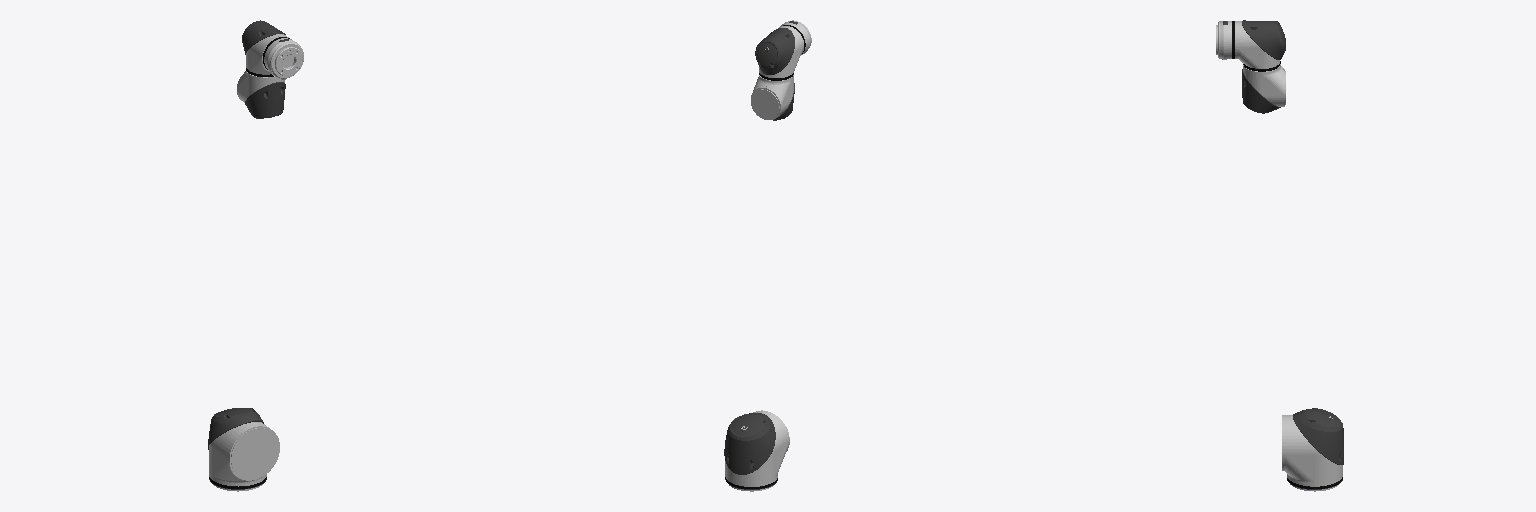
The robot description file, URDF, robot "rb5_850e":
<?xml version="1.0" ?>
<!-- =================================================================================== -->
<!-- |    This document was autogenerated by xacro from rb5_850e.urdf.xacro            | -->
<!-- |    EDITING THIS FILE BY HAND IS NOT RECOMMENDED                                 | -->
<!-- =================================================================================== -->
<robot name="rb5_850e">
  <link name="link0">
    <visual>
      <geometry>
        <mesh filename="package://rbpodo_description/meshes/rb5_850e/visual/link0.dae"/>
      </geometry>
    </visual>
    <collision>
      <geometry>
        <mesh filename="package://rbpodo_description/meshes/rb5_850e/collision/link0.stl"/>
      </geometry>
    </collision>
  </link>
  <link name="link1">
    <visual>
      <geometry>
        <mesh filename="package://rbpodo_description/meshes/rb5_850e/visual/link1.dae"/>
      </geometry>
    </visual>
    <collision>
      <geometry>
        <mesh filename="package://rbpodo_description/meshes/rb5_850e/collision/link1.stl"/>
      </geometry>
    </collision>
    <inertial>
      <origin rpy="0 0 0" xyz="0.000057 -0.005795 -0.034516"/>
      <mass value="4.147"/>
      <inertia ixx="0.008787118" ixy="-8.564e-06" ixz="-8.047e-06" iyy="0.008888636" iyz="0.000893025" izz="0.007845924"/>
    </inertial>
  </link>
  <link name="link2">
    <visual>
      <geometry>
        <mesh filename="package://rbpodo_description/meshes/rb5_850e/visual/link2.dae"/>
      </geometry>
    </visual>
    <collision>
      <geometry>
        <mesh filename="package://rbpodo_description/meshes/rb5_850e/collision/link2.stl"/>
      </geometry>
    </collision>
    <inertial>
      <origin rpy="0 0 0" xyz="-0.000037 -0.121603 0.212933"/>
      <mass value="9.633"/>
      <inertia ixx="0.392214367" ixy="-1.4684e-05" ixz="-5.721e-05" iyy="0.388914548" iyz="0.000255706" izz="0.021949397"/>
    </inertial>
  </link>
  <link name="link3">
    <visual>
      <geometry>
        <mesh filename="package://rbpodo_description/meshes/rb5_850e/visual/link3.dae"/>
      </geometry>
    </visual>
    <collision>
      <geometry>
        <mesh filename="package://rbpodo_description/meshes/rb5_850e/collision/link3.stl"/>
      </geometry>
    </collision>
    <inertial>
      <origin rpy="0 0 0" xyz="0.000021 -0.015845 0.202568"/>
      <mass value="3.915"/>
      <inertia ixx="0.112039835" ixy="-1.006e-06" ixz="1.4848e-05" iyy="0.111790094" iyz="0.002092668" izz="0.007569107"/>
    </inertial>
  </link>
  <link name="link4">
    <visual>
      <geometry>
        <mesh filename="package://rbpodo_description/meshes/rb5_850e/visual/link4.dae"/>
      </geometry>
    </visual>
    <collision>
      <geometry>
        <mesh filename="package://rbpodo_description/meshes/rb5_850e/collision/link4.stl"/>
      </geometry>
    </collision>
    <inertial>
      <origin rpy="0 0 0" xyz="0.000057 -0.106332 0.025881"/>
      <mass value="1.452"/>
      <inertia ixx="0.001629031" ixy="3.99e-07" ixz="2.37e-07" iyy="0.001558024" iyz="0.000127282" izz="0.001224887"/>
    </inertial>
  </link>
  <link name="link5">
    <visual>
      <geometry>
        <mesh filename="package://rbpodo_description/meshes/rb5_850e/visual/link5.dae"/>
      </geometry>
    </visual>
    <collision>
      <geometry>
        <mesh filename="package://rbpodo_description/meshes/rb5_850e/collision/link5.stl"/>
      </geometry>
    </collision>
    <inertial>
      <origin rpy="0 0 0" xyz="-0.000028 -0.025911 -0.004363"/>
      <mass value="1.454"/>
      <inertia ixx="0.001631445" ixy="1.764e-06" ixz="2.2e-07" iyy="0.001226962" iyz="0.000127473" izz="0.001560416"/>
    </inertial>
  </link>
  <link name="link6">
    <visual>
      <geometry>
        <mesh filename="package://rbpodo_description/meshes/rb5_850e/visual/link6.dae"/>
      </geometry>
    </visual>
    <collision>
      <geometry>
        <mesh filename="package://rbpodo_description/meshes/rb5_850e/collision/link6.stl"/>
      </geometry>
    </collision>
    <inertial>
      <origin rpy="0 0 0" xyz="-0.000002 -0.079964 -0.000494"/>
      <mass value="0.243"/>
      <inertia ixx="0.000147823" ixy="2.46e-07" ixz="6.43e-07" iyy="0.000243703" iyz="-5.54e-07" izz="0.000142339"/>
    </inertial>
  </link>
  <link name="tcp"/>
  <joint name="base" type="revolute">
    <origin rpy="0 0 0" xyz="0 0 0.1692"/>
    <parent link="link0"/>
    <child link="link1"/>
    <axis xyz="0 0 1"/>
    <limit effort="10" lower="-3.14" upper="3.14" velocity="3.14"/>
  </joint>
  <joint name="shoulder" type="revolute">
    <origin rpy="0 0 0" xyz="0 0 0"/>
    <parent link="link1"/>
    <child link="link2"/>
    <axis xyz="0 1 0"/>
    <limit effort="10" lower="-3.14" upper="3.14" velocity="3.14"/>
  </joint>
  <joint name="elbow" type="revolute">
    <origin rpy="0 0 0" xyz="0 0 0.425"/>
    <parent link="link2"/>
    <child link="link3"/>
    <axis xyz="0 1 0"/>
    <limit effort="10" lower="-3.14" upper="3.14" velocity="3.14"/>
  </joint>
  <joint name="wrist1" type="revolute">
    <origin rpy="0 0 0" xyz="0 0 0.392"/>
    <parent link="link3"/>
    <child link="link4"/>
    <axis xyz="0 1 0"/>
    <limit effort="10" lower="-3.14" upper="3.14" velocity="3.14"/>
  </joint>
  <joint name="wrist2" type="revolute">
    <origin rpy="0 0 0" xyz="0 -0.1107 0.1107"/>
    <parent link="link4"/>
    <child link="link5"/>
    <axis xyz="0 0 1"/>
    <limit effort="10" lower="-3.14" upper="3.14" velocity="3.14"/>
  </joint>
  <joint name="wrist3" type="revolute">
    <origin rpy="0 0 0" xyz="0 0 0"/>
    <parent link="link5"/>
    <child link="link6"/>
    <axis xyz="0 1 0"/>
    <limit effort="10" lower="-3.14" upper="3.14" velocity="3.14"/>
  </joint>
  <joint name="tcp_joint" type="fixed">
    <origin rpy="0 0 0" xyz="0 -0.0967 0"/>
    <parent link="link6"/>
    <child link="tcp"/>
  </joint>
  <ros2_control name="RBPodoHardwareInterface" type="system">
    <hardware>
      <plugin>rbpodo_hardware/RBPodoHardwareInterface</plugin>
      <param name="cb_simulation">True</param>
      <param name="robot_ip">10.0.2.7</param>
    </hardware>
    <joint name="base">
      <param name="initial_position">0.0</param>
      <param name="torque_constant">1</param>
      <command_interface name="effort"/>
      <command_interface name="velocity"/>
      <command_interface name="position"/>
      <state_interface name="position"/>
      <state_interface name="effort"/>
    </joint>
    <joint name="shoulder">
      <param name="initial_position">0.0</param>
      <param name="torque_constant">1</param>
      <command_interface name="effort"/>
      <command_interface name="velocity"/>
      <command_interface name="position"/>
      <state_interface name="position"/>
      <state_interface name="effort"/>
    </joint>
    <joint name="elbow">
      <param name="initial_position">0.0</param>
      <param name="torque_constant">1</param>
      <command_interface name="effort"/>
      <command_interface name="velocity"/>
      <command_interface name="position"/>
      <state_interface name="position"/>
      <state_interface name="effort"/>
    </joint>
    <joint name="wrist1">
      <param name="initial_position">0.0</param>
      <param name="torque_constant">1</param>
      <command_interface name="effort"/>
      <command_interface name="velocity"/>
      <command_interface name="position"/>
      <state_interface name="position"/>
      <state_interface name="effort"/>
    </joint>
    <joint name="wrist2">
      <param name="initial_position">0.0</param>
      <param name="torque_constant">1</param>
      <command_interface name="effort"/>
      <command_interface name="velocity"/>
      <command_interface name="position"/>
      <state_interface name="position"/>
      <state_interface name="effort"/>
    </joint>
    <joint name="wrist3">
      <param name="initial_position">0.0</param>
      <param name="torque_constant">1</param>
      <command_interface name="effort"/>
      <command_interface name="velocity"/>
      <command_interface name="position"/>
      <state_interface name="position"/>
      <state_interface name="effort"/>
    </joint>
  </ros2_control>
</robot>

--- Facts derived from the render (not from the file) ---
Views: 3 orthographic renders of the robot side by side, from view 1: azimuth 30°, elevation 25°; view 2: azimuth 150°, elevation 25°; view 3: azimuth 270°, elevation 25°.
Model rb5_850e with 8 links and 7 joints (6 revolute, 1 fixed), rooted at link0, posed all joints at 0.
Visible links, largest first — view 1: link1, link4, link5, link6; view 2: link1, link5, link4; view 3: link1, link5, link4, link6.
Boxes of the visible links, bbox=[...] form: link1: bbox=[208, 408, 279, 491]; link4: bbox=[237, 68, 285, 118]; link5: bbox=[242, 20, 291, 74]; link6: bbox=[264, 38, 303, 79]; link1: bbox=[724, 410, 789, 491]; link5: bbox=[755, 25, 805, 77]; link4: bbox=[751, 73, 794, 120]; link1: bbox=[1282, 408, 1343, 491]; link5: bbox=[1232, 20, 1285, 68]; link4: bbox=[1242, 61, 1285, 113]; link6: bbox=[1216, 21, 1231, 59].
Bounding box of the posed robot: 0.1197 × 0.2692 × 1.06 m (x, y, z).
4 mesh visuals loaded from 7 distinct referenced files (4 Collada DAE); not drawn: 3 (reference not matched to a file when rendering).
